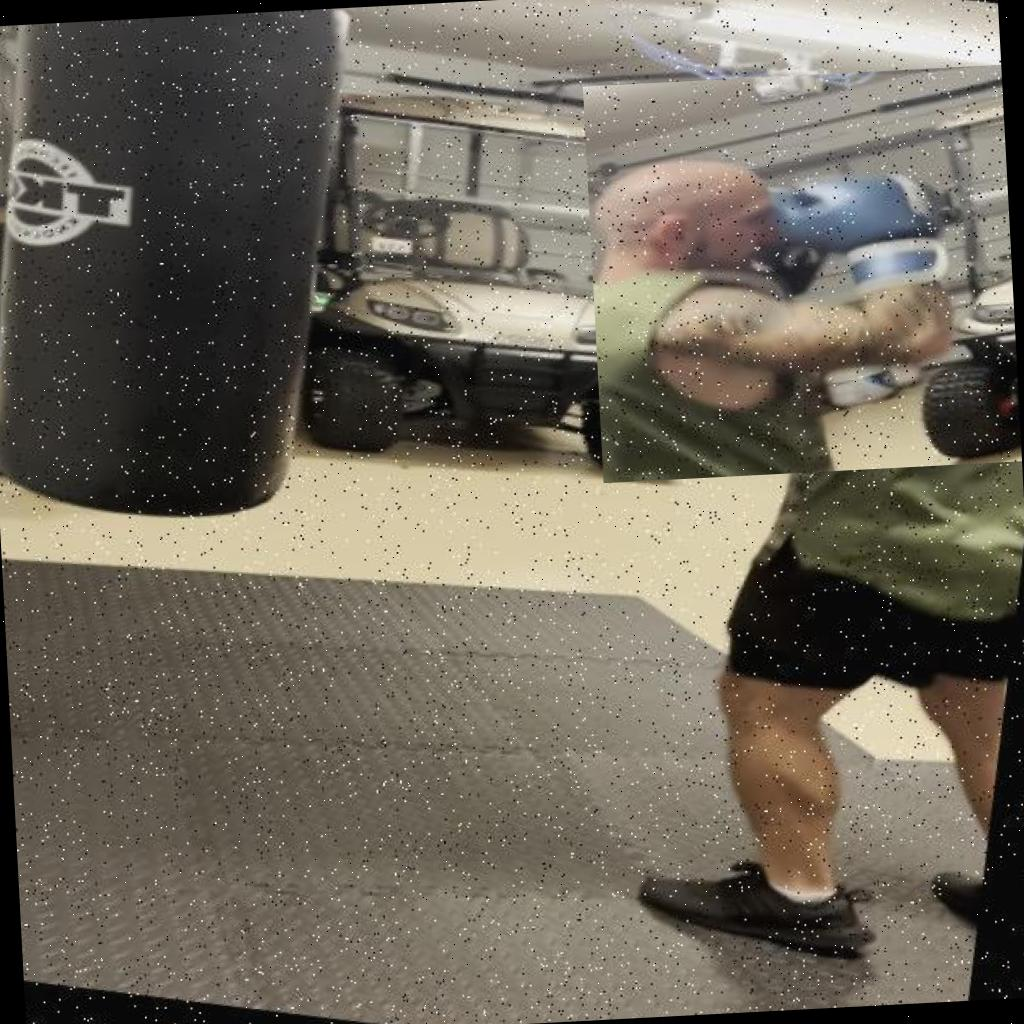bag: (0, 6, 411, 561)
no punch: (583, 65, 1022, 483)
